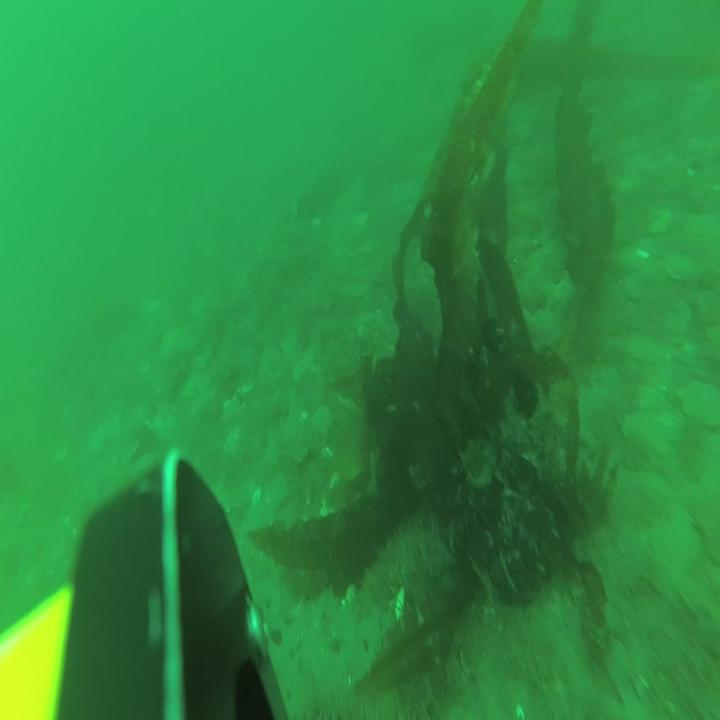scallop: (624, 406, 672, 458), (681, 375, 720, 430), (664, 248, 697, 286), (306, 408, 332, 450)
